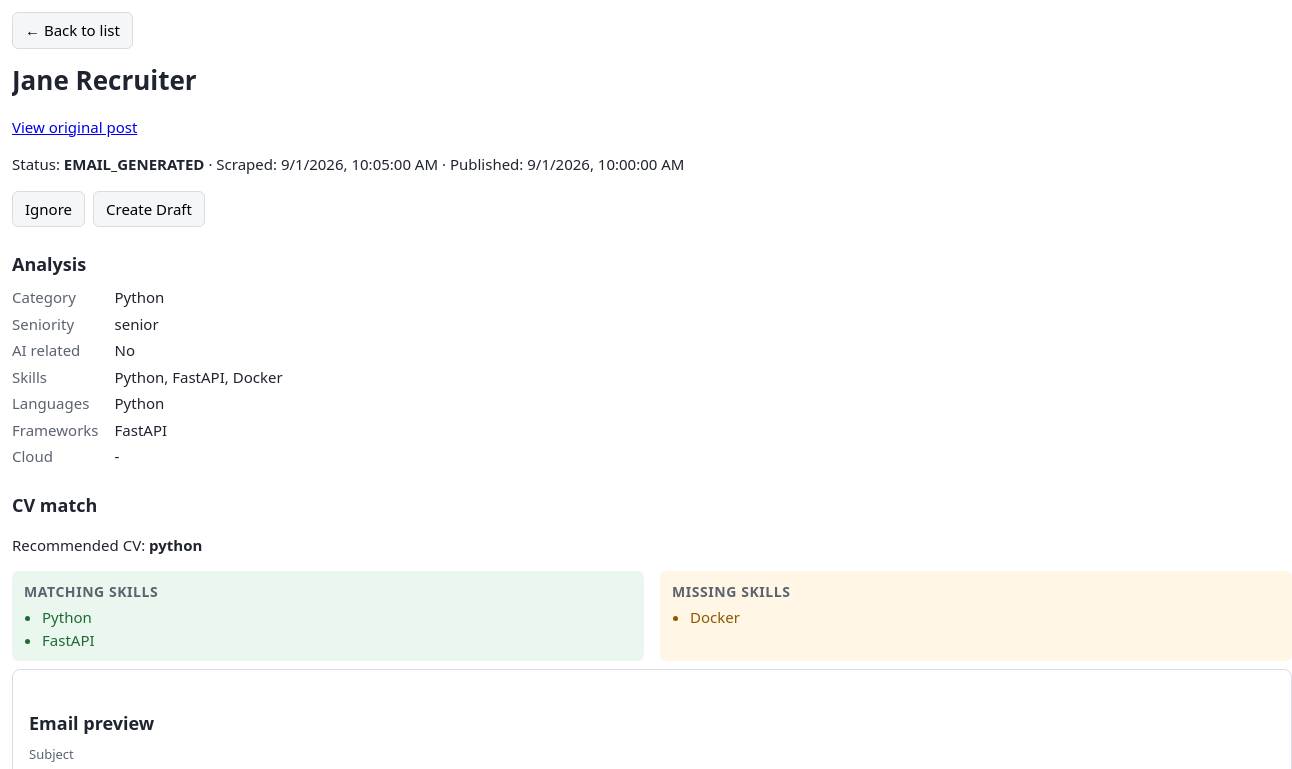
Test: JobDetail › creates the Gmail draft and shows the Open in Gmail link
The width and height of the screenshot is (1292, 769).
expect the heading "Jane Recruiter" is shown: met, box [12, 62, 197, 98]
Click the button "Create Draft" at (149, 209), box [93, 190, 205, 227]
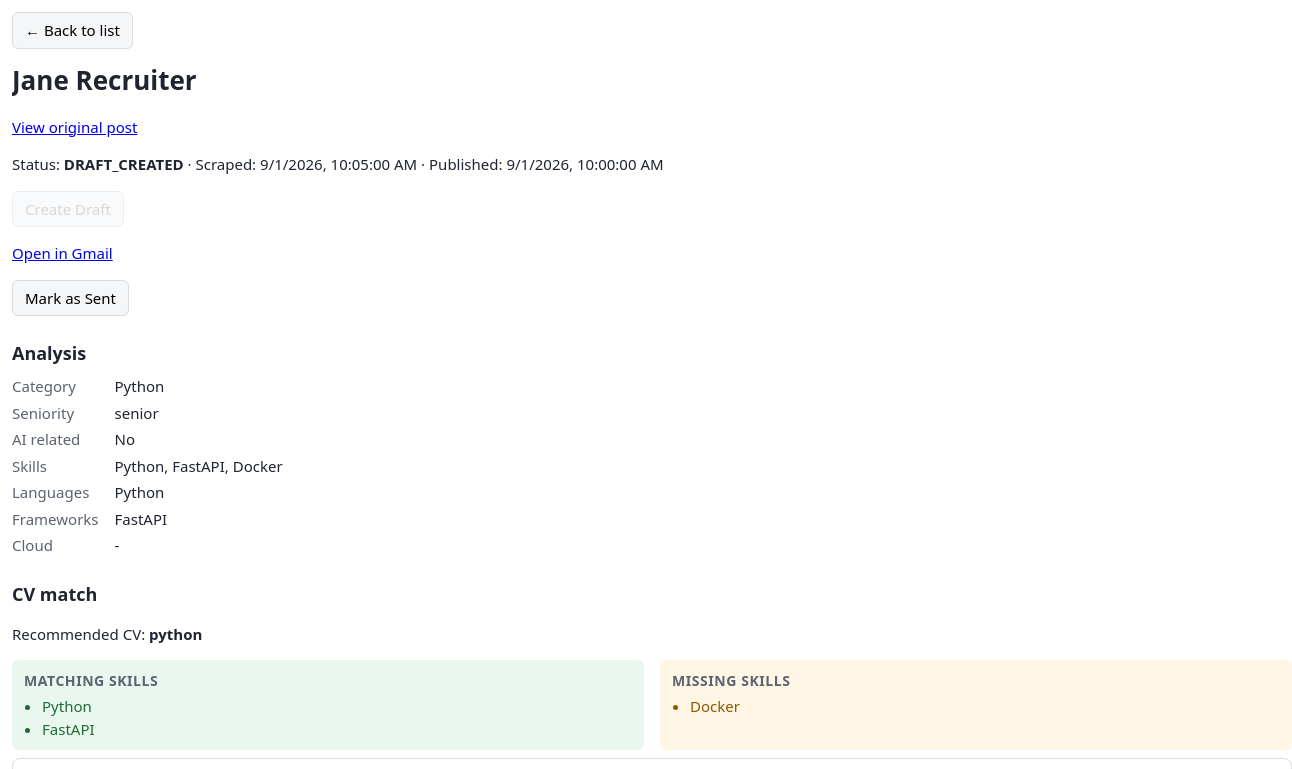
expect the text "DRAFT_CREATED" is shown: met, box [64, 154, 184, 174]
expect the button "Create Draft" is disabled: met, box [12, 190, 124, 227]
